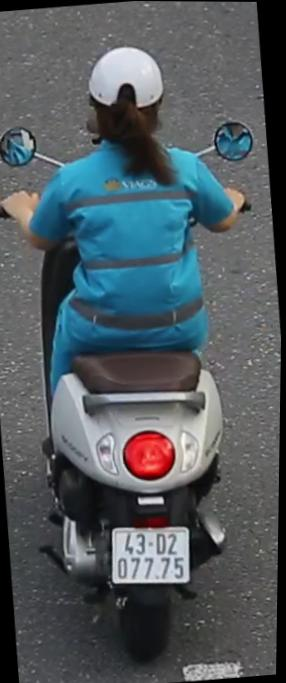LP: (107, 518, 199, 596)
helmet: (76, 33, 176, 166)
